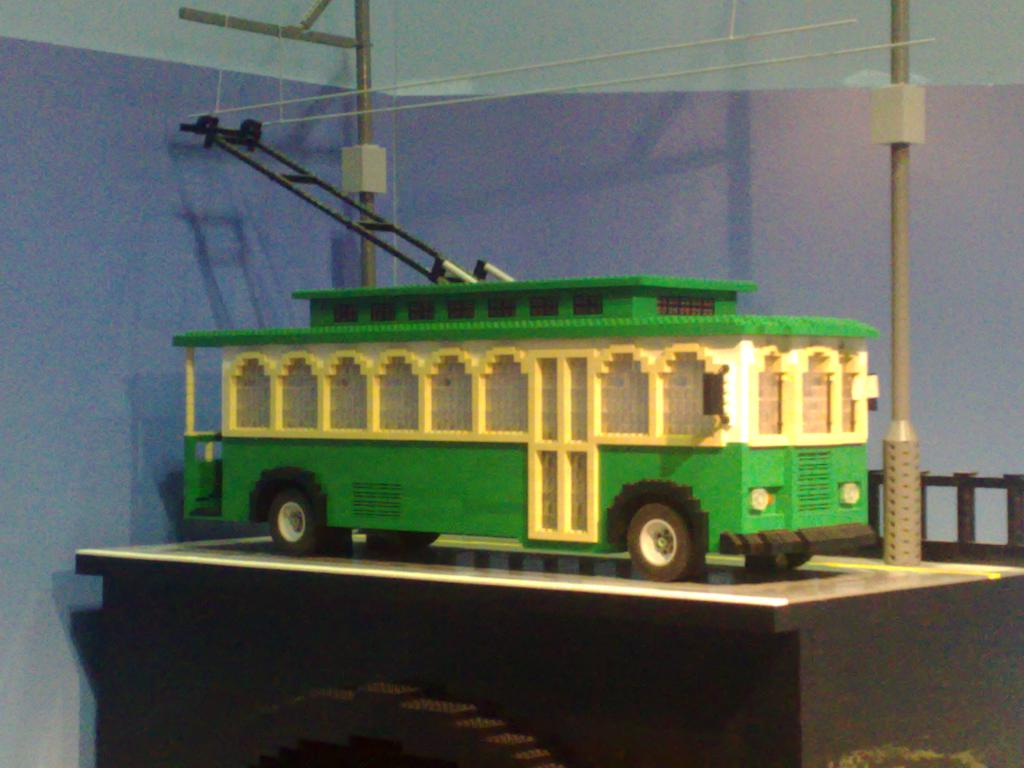Bus: (170, 272, 877, 586)
